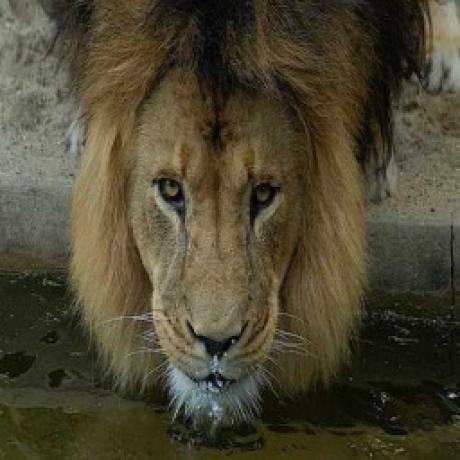Lion: (44, 0, 434, 428)
